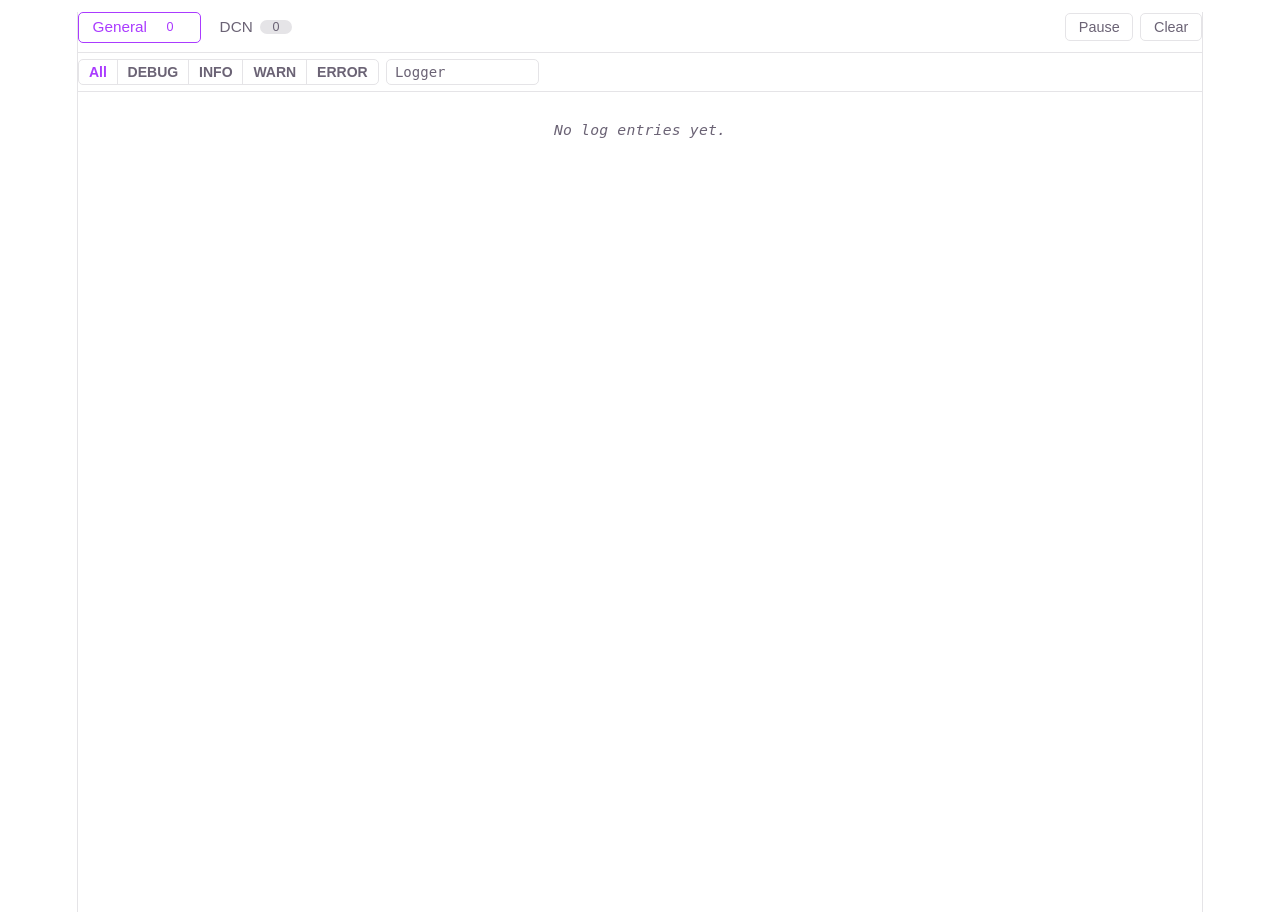
Test case: LogView › shows DCN empty message after switching to DCN tab
Click the button with class "tab" showing "DCN 0".
click(256, 27)  # box [205,12,306,43]
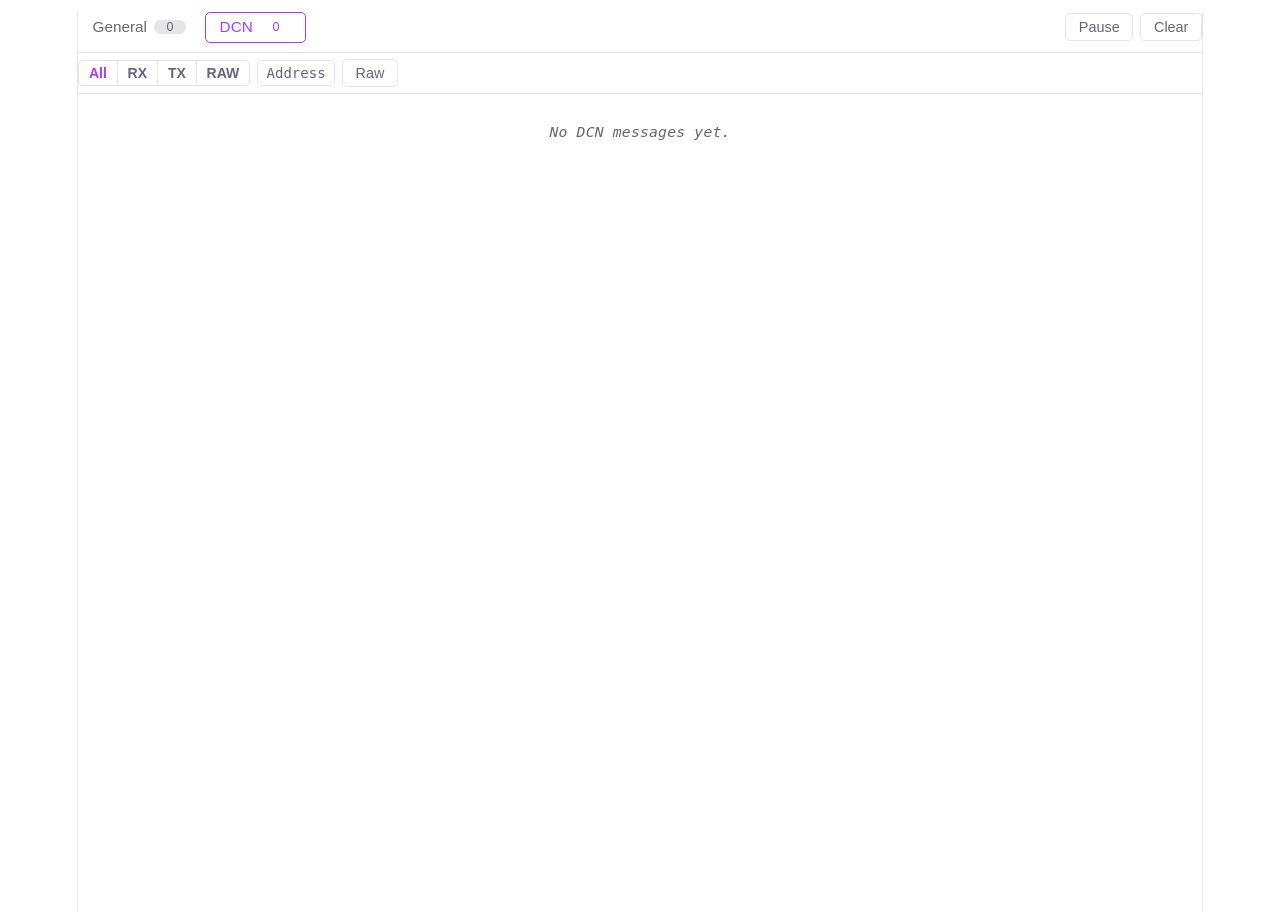
Expected: the text "No DCN messages yet." is shown, [549,123,731,140]
